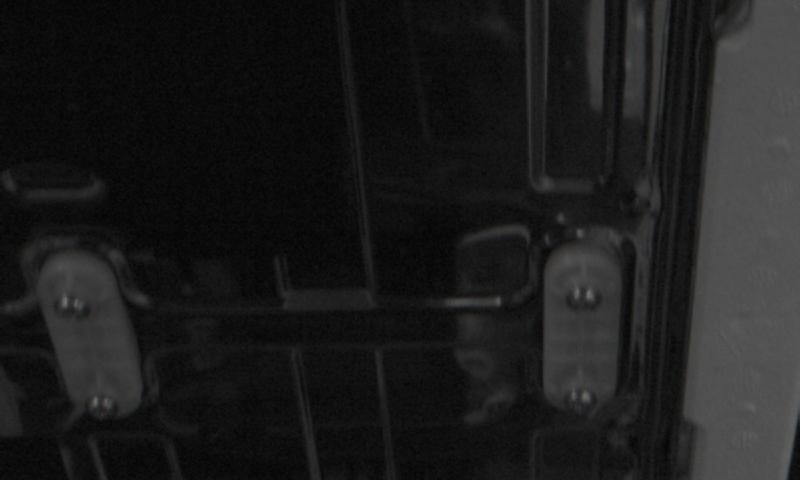vida-ok: (72, 383, 127, 428), (555, 375, 605, 420), (555, 280, 606, 322), (47, 288, 98, 328)
